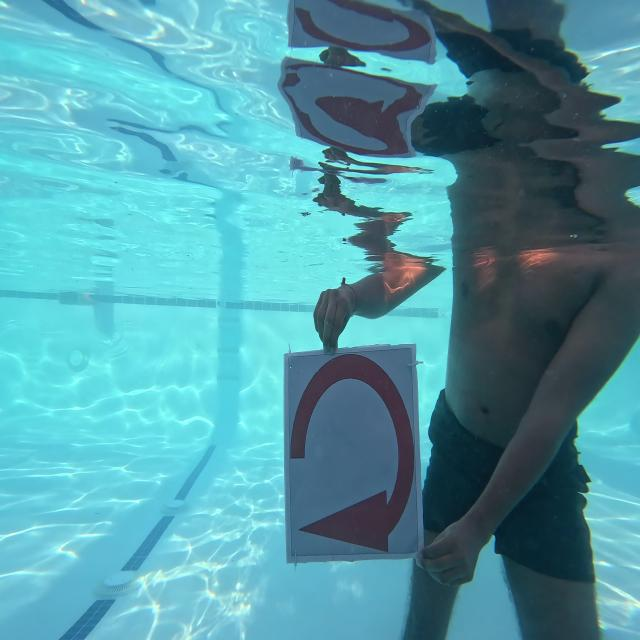red_side: (280, 341, 422, 566)
